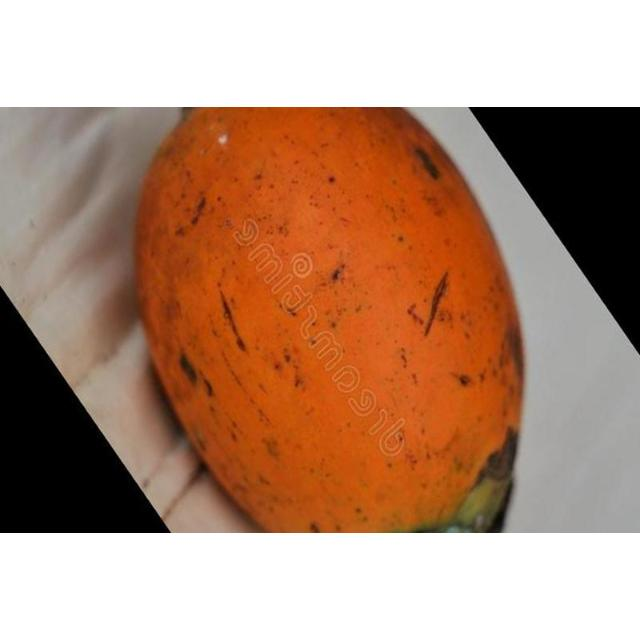good: (134, 107, 526, 533)
